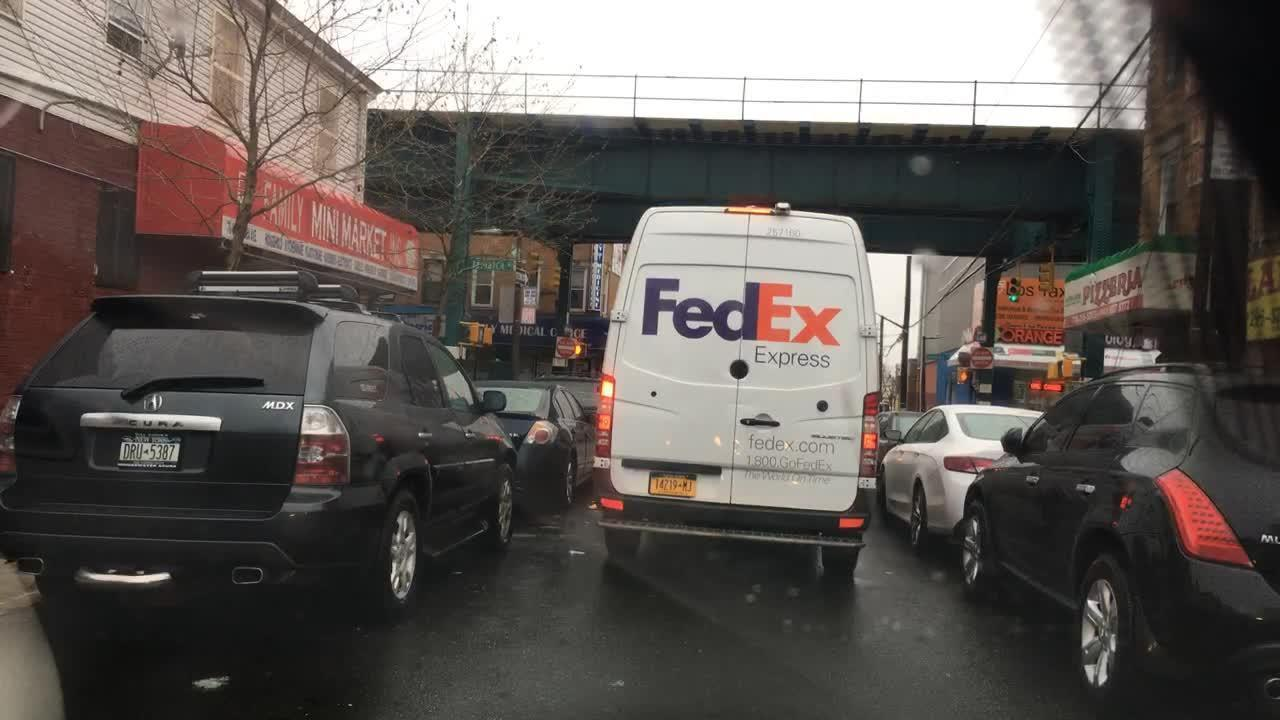acura: (135, 387, 176, 420)
